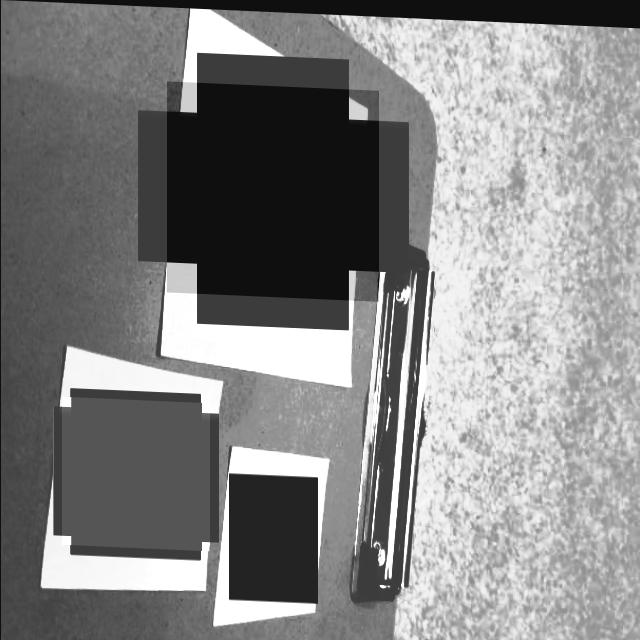qr_code: (166, 80, 378, 298), (60, 397, 208, 550), (228, 472, 317, 600)
